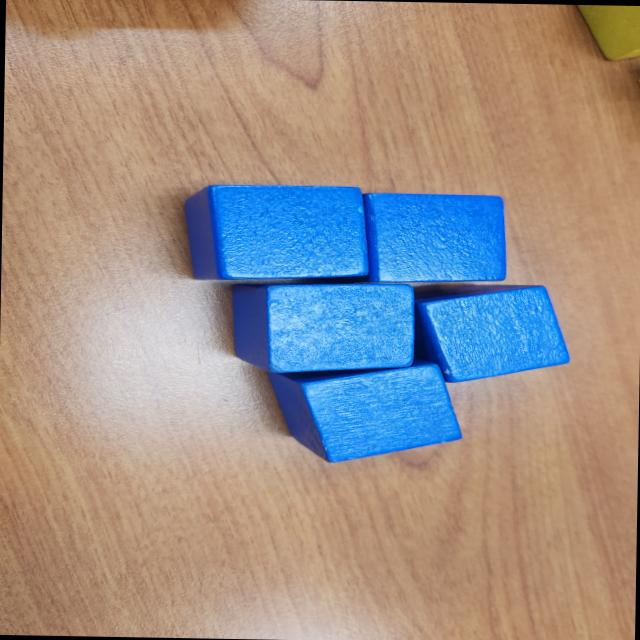blue: (265, 359, 469, 466), (177, 184, 375, 283), (228, 278, 420, 374), (414, 282, 574, 386), (363, 191, 509, 288)
yellow: (569, 4, 640, 62)
